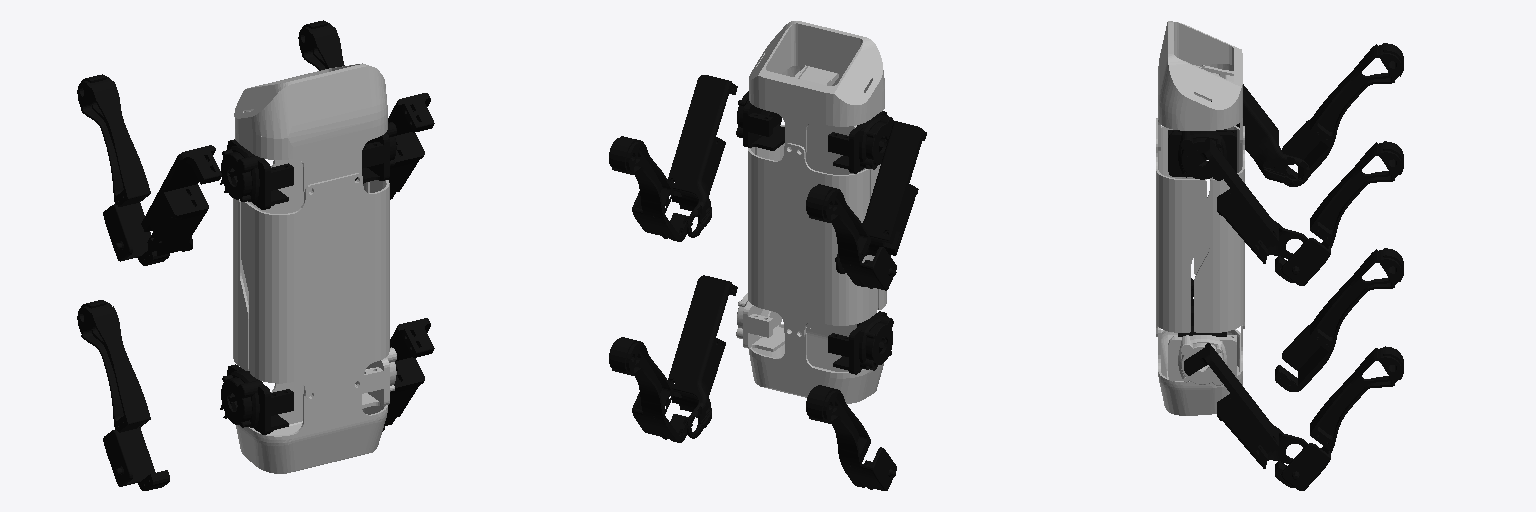
robot.urdf — spotmicro_test_urdf:
<?xml version="1.0" encoding="utf-8"?>
<!-- This URDF was automatically created by SolidWorks to URDF Exporter! Originally created by [author] ([email redacted]) 
     Commit Version: 1.6.0-4-g7f85cfe  Build Version: 1.6.7995.38578
     For more information, please see http://wiki.ros.org/sw_urdf_exporter -->
<robot
  name="spotmicro_test_urdf">
  <link
    name="base_link">
    <inertial>
      <origin
        xyz="0.15063 0.16918 0.41205"
        rpy="0 0 0" />
      <mass
        value="0.18556" />
      <inertia
        ixx="0.00027818"
        ixy="4.3791E-08"
        ixz="8.8551E-09"
        iyy="0.00031044"
        iyz="1.0055E-06"
        izz="0.00045145" />
    </inertial>
    <visual>
      <origin
        xyz="0 0 0"
        rpy="0 0 0" />
      <geometry>
        <mesh
          filename="package://spotmicro_test_urdf/meshes/base_link.STL" />
      </geometry>
      <material
        name="">
        <color
          rgba="0.75294 0.75294 0.75294 1" />
      </material>
    </visual>
    <collision>
      <origin
        xyz="0 0 0"
        rpy="0 0 0" />
      <geometry>
        <mesh
          filename="package://spotmicro_test_urdf/meshes/base_link.STL" />
      </geometry>
    </collision>
  </link>
  <link
    name="front_left_shoulder_link">
    <inertial>
      <origin
        xyz="-0.015926 0.024954 0.02626"
        rpy="0 0 0" />
      <mass
        value="0.023245" />
      <inertia
        ixx="1.0199E-05"
        ixy="5.1964E-07"
        ixz="-5.9066E-08"
        iyy="8.7583E-06"
        iyz="-2.3765E-08"
        izz="5.5095E-06" />
    </inertial>
    <visual>
      <origin
        xyz="0 0 0"
        rpy="0 0 0" />
      <geometry>
        <mesh
          filename="package://spotmicro_test_urdf/meshes/front_left_shoulder_link.STL" />
      </geometry>
      <material
        name="">
        <color
          rgba="0.098039 0.098039 0.098039 1" />
      </material>
    </visual>
    <collision>
      <origin
        xyz="0 0 0"
        rpy="0 0 0" />
      <geometry>
        <mesh
          filename="package://spotmicro_test_urdf/meshes/front_left_shoulder_link.STL" />
      </geometry>
    </collision>
  </link>
  <joint
    name="front_left_shoulder_joint"
    type="revolute">
    <origin
      xyz="0.083432 -0.38203 0.26969"
      rpy="-1.5708 0 3.1416" />
    <parent
      link="base_link" />
    <child
      link="front_left_shoulder_link" />
    <axis
      xyz="0 0 0" />
    <limit
      lower="0"
      upper="0"
      effort="0"
      velocity="0" />
  </joint>
  <link
    name="front_left_top_leg_link">
    <inertial>
      <origin
        xyz="-0.03839 0.039911 0.76787"
        rpy="0 0 0" />
      <mass
        value="0.0541" />
      <inertia
        ixx="5.1006E-05"
        ixy="6.9559E-09"
        ixz="-2.4597E-06"
        iyy="4.9512E-05"
        iyz="3.9615E-06"
        izz="8.2949E-06" />
    </inertial>
    <visual>
      <origin
        xyz="0 0 0"
        rpy="0 0 0" />
      <geometry>
        <mesh
          filename="package://spotmicro_test_urdf/meshes/front_left_top_leg_link.STL" />
      </geometry>
      <material
        name="">
        <color
          rgba="0.098039 0.098039 0.098039 1" />
      </material>
    </visual>
    <collision>
      <origin
        xyz="0 0 0"
        rpy="0 0 0" />
      <geometry>
        <mesh
          filename="package://spotmicro_test_urdf/meshes/front_left_top_leg_link.STL" />
      </geometry>
    </collision>
  </link>
  <joint
    name="front_left_top_leg_joint"
    type="revolute">
    <origin
      xyz="-0.014683 -0.549 0.46222"
      rpy="3.1416 -0.95993 1.5708" />
    <parent
      link="front_left_shoulder_link" />
    <child
      link="front_left_top_leg_link" />
    <axis
      xyz="0 0 0" />
    <limit
      lower="0"
      upper="0"
      effort="0"
      velocity="0" />
  </joint>
  <link
    name="front_left_bottom_leg_link">
    <inertial>
      <origin
        xyz="0.20031 -0.48365 0.23645"
        rpy="0 0 0" />
      <mass
        value="0.028735" />
      <inertia
        ixx="4.2921E-06"
        ixy="-3.2593E-06"
        ixz="3.9385E-06"
        iyy="6.7437E-05"
        iyz="3.1107E-07"
        izz="6.7109E-05" />
    </inertial>
    <visual>
      <origin
        xyz="0 0 0"
        rpy="0 0 0" />
      <geometry>
        <mesh
          filename="package://spotmicro_test_urdf/meshes/front_left_bottom_leg_link.STL" />
      </geometry>
      <material
        name="">
        <color
          rgba="0.098039 0.098039 0.098039 1" />
      </material>
    </visual>
    <collision>
      <origin
        xyz="0 0 0"
        rpy="0 0 0" />
      <geometry>
        <mesh
          filename="package://spotmicro_test_urdf/meshes/front_left_bottom_leg_link.STL" />
      </geometry>
    </collision>
  </link>
  <joint
    name="front_left_bottom_leg_joint"
    type="revolute">
    <origin
      xyz="0.15499 -0.43707 0.63677"
      rpy="0 0.2618 -3.1416" />
    <parent
      link="front_left_top_leg_link" />
    <child
      link="front_left_bottom_leg_link" />
    <axis
      xyz="0 0 0" />
    <limit
      lower="0"
      upper="0"
      effort="0"
      velocity="0" />
  </joint>
  <link
    name="back_left_shoulder_link">
    <inertial>
      <origin
        xyz="-0.015926 0.024954 0.02626"
        rpy="0 0 0" />
      <mass
        value="0.023245" />
      <inertia
        ixx="1.0199E-05"
        ixy="5.1964E-07"
        ixz="-5.9066E-08"
        iyy="8.7583E-06"
        iyz="-2.3765E-08"
        izz="5.5095E-06" />
    </inertial>
    <visual>
      <origin
        xyz="0 0 0"
        rpy="0 0 0" />
      <geometry>
        <mesh
          filename="package://spotmicro_test_urdf/meshes/back_left_shoulder_link.STL" />
      </geometry>
      <material
        name="">
        <color
          rgba="0.098039 0.098039 0.098039 1" />
      </material>
    </visual>
    <collision>
      <origin
        xyz="0 0 0"
        rpy="0 0 0" />
      <geometry>
        <mesh
          filename="package://spotmicro_test_urdf/meshes/back_left_shoulder_link.STL" />
      </geometry>
    </collision>
  </link>
  <joint
    name="back_left_shoulder_joint"
    type="revolute">
    <origin
      xyz="0.083432 -0.38203 0.082186"
      rpy="-1.5708 0 3.1416" />
    <parent
      link="base_link" />
    <child
      link="back_left_shoulder_link" />
    <axis
      xyz="0 0 0" />
    <limit
      lower="0"
      upper="0"
      effort="0"
      velocity="0" />
  </joint>
  <link
    name="back_left_top_leg_link">
    <inertial>
      <origin
        xyz="-0.0383901944027628 0.0399109204973224 0.767866585360039"
        rpy="0 0 0" />
      <mass
        value="0.0541003736709498" />
      <inertia
        ixx="5.10063869441116E-05"
        ixy="6.95589520913907E-09"
        ixz="-2.4597497494731E-06"
        iyy="4.95124693020036E-05"
        iyz="3.9614551124075E-06"
        izz="8.29492357103396E-06" />
    </inertial>
    <visual>
      <origin
        xyz="0 0 0"
        rpy="0 0 0" />
      <geometry>
        <mesh
          filename="package://spotmicro_test_urdf/meshes/back_left_top_leg_link.STL" />
      </geometry>
      <material
        name="">
        <color
          rgba="0.0980392156862745 0.0980392156862745 0.0980392156862745 1" />
      </material>
    </visual>
    <collision>
      <origin
        xyz="0 0 0"
        rpy="0 0 0" />
      <geometry>
        <mesh
          filename="package://spotmicro_test_urdf/meshes/back_left_top_leg_link.STL" />
      </geometry>
    </collision>
  </link>
  <joint
    name="back_left_top_leg_joint"
    type="revolute">
    <origin
      xyz="-0.014683 -0.549 0.46222"
      rpy="3.1416 -0.95993 1.5708" />
    <parent
      link="back_left_shoulder_link" />
    <child
      link="back_left_top_leg_link" />
    <axis
      xyz="0 0 0" />
    <limit
      lower="0"
      upper="0"
      effort="0"
      velocity="0" />
  </joint>
  <link
    name="back_left_bottom_leg_link">
    <inertial>
      <origin
        xyz="0.20031201545386 -0.483650020807854 0.23645017312076"
        rpy="0 0 0" />
      <mass
        value="0.0287350834744898" />
      <inertia
        ixx="4.29213028614599E-06"
        ixy="-3.25928881788901E-06"
        ixz="3.93849114184782E-06"
        iyy="6.74373174286215E-05"
        iyz="3.11068351479878E-07"
        izz="6.71092865934358E-05" />
    </inertial>
    <visual>
      <origin
        xyz="0 0 0"
        rpy="0 0 0" />
      <geometry>
        <mesh
          filename="package://spotmicro_test_urdf/meshes/back_left_bottom_leg_link.STL" />
      </geometry>
      <material
        name="">
        <color
          rgba="0.0980392156862745 0.0980392156862745 0.0980392156862745 1" />
      </material>
    </visual>
    <collision>
      <origin
        xyz="0 0 0"
        rpy="0 0 0" />
      <geometry>
        <mesh
          filename="package://spotmicro_test_urdf/meshes/back_left_bottom_leg_link.STL" />
      </geometry>
    </collision>
  </link>
  <joint
    name="back_left_bottom_leg_joint"
    type="revolute">
    <origin
      xyz="0.15499 -0.43707 0.63677"
      rpy="0 0.2618 -3.1416" />
    <parent
      link="back_left_top_leg_link" />
    <child
      link="back_left_bottom_leg_link" />
    <axis
      xyz="0 0 0" />
    <limit
      lower="0"
      upper="0"
      effort="0"
      velocity="0" />
  </joint>
  <link
    name="front_right_shoulder_link">
    <inertial>
      <origin
        xyz="-0.014984 0.024796 -0.026032"
        rpy="0 0 0" />
      <mass
        value="0.027445" />
      <inertia
        ixx="1.0952E-05"
        ixy="5.0717E-07"
        ixz="-8.3815E-09"
        iyy="9.3677E-06"
        iyz="3.865E-08"
        izz="6.1079E-06" />
    </inertial>
    <visual>
      <origin
        xyz="0 0 0"
        rpy="0 0 0" />
      <geometry>
        <mesh
          filename="package://spotmicro_test_urdf/meshes/front_right_shoulder_link.STL" />
      </geometry>
      <material
        name="">
        <color
          rgba="0.098039 0.098039 0.098039 1" />
      </material>
    </visual>
    <collision>
      <origin
        xyz="0 0 0"
        rpy="0 0 0" />
      <geometry>
        <mesh
          filename="package://spotmicro_test_urdf/meshes/front_right_shoulder_link.STL" />
      </geometry>
    </collision>
  </link>
  <joint
    name="front_right_shoulder_joint"
    type="revolute">
    <origin
      xyz="0.21781 -0.38203 0.26969"
      rpy="-1.5708 0 0" />
    <parent
      link="base_link" />
    <child
      link="front_right_shoulder_link" />
    <axis
      xyz="0 0 0" />
    <limit
      lower="0"
      upper="0"
      effort="0"
      velocity="0" />
  </joint>
  <link
    name="front_right_top_leg_link">
    <inertial>
      <origin
        xyz="-0.0383901213697152 0.039910907772139 -0.767866674756265"
        rpy="0 0 0" />
      <mass
        value="0.0541003356631991" />
      <inertia
        ixx="5.10064102961306E-05"
        ixy="7.02679399464376E-09"
        ixz="2.45986522690675E-06"
        iyy="4.95124442637593E-05"
        iyz="-3.9615380913588E-06"
        izz="8.29484049269704E-06" />
    </inertial>
    <visual>
      <origin
        xyz="0 0 0"
        rpy="0 0 0" />
      <geometry>
        <mesh
          filename="package://spotmicro_test_urdf/meshes/front_right_top_leg_link.STL" />
      </geometry>
      <material
        name="">
        <color
          rgba="0.0980392156862745 0.0980392156862745 0.0980392156862745 1" />
      </material>
    </visual>
    <collision>
      <origin
        xyz="0 0 0"
        rpy="0 0 0" />
      <geometry>
        <mesh
          filename="package://spotmicro_test_urdf/meshes/front_right_top_leg_link.STL" />
      </geometry>
    </collision>
  </link>
  <joint
    name="front_right_top_leg_joint"
    type="revolute">
    <origin
      xyz="-0.014683 -0.549 -0.46222"
      rpy="3.1416 0.95993 1.5708" />
    <parent
      link="front_right_shoulder_link" />
    <child
      link="front_right_top_leg_link" />
    <axis
      xyz="0 0 0" />
    <limit
      lower="0"
      upper="0"
      effort="0"
      velocity="0" />
  </joint>
  <link
    name="front_right_bottom_leg_link">
    <inertial>
      <origin
        xyz="0.200311851195204 -0.483650021236253 -0.236450230350531"
        rpy="0 0 0" />
      <mass
        value="0.0287350640928098" />
      <inertia
        ixx="4.29213288728501E-06"
        ixy="-3.25927859846549E-06"
        ixz="-3.93850857348559E-06"
        iyy="6.74374069309438E-05"
        iyz="-3.1106302790063E-07"
        izz="6.710937211015E-05" />
    </inertial>
    <visual>
      <origin
        xyz="0 0 0"
        rpy="0 0 0" />
      <geometry>
        <mesh
          filename="package://spotmicro_test_urdf/meshes/front_right_bottom_leg_link.STL" />
      </geometry>
      <material
        name="">
        <color
          rgba="0.0980392156862745 0.0980392156862745 0.0980392156862745 1" />
      </material>
    </visual>
    <collision>
      <origin
        xyz="0 0 0"
        rpy="0 0 0" />
      <geometry>
        <mesh
          filename="package://spotmicro_test_urdf/meshes/front_right_bottom_leg_link.STL" />
      </geometry>
    </collision>
  </link>
  <joint
    name="front_right_bottom_leg_joint"
    type="revolute">
    <origin
      xyz="0.15499 -0.43707 -0.63677"
      rpy="0 -0.2618 -3.1416" />
    <parent
      link="front_right_top_leg_link" />
    <child
      link="front_right_bottom_leg_link" />
    <axis
      xyz="0 0 0" />
    <limit
      lower="0"
      upper="0"
      effort="0"
      velocity="0" />
  </joint>
  <link
    name="back_right_shoulder_link">
    <inertial>
      <origin
        xyz="0.15063 0.16918 0.41205"
        rpy="0 0 0" />
      <mass
        value="0.18556" />
      <inertia
        ixx="0.00027818"
        ixy="4.3791E-08"
        ixz="8.8551E-09"
        iyy="0.00031044"
        iyz="1.0055E-06"
        izz="0.00045145" />
    </inertial>
    <visual>
      <origin
        xyz="0 0 0"
        rpy="0 0 0" />
      <geometry>
        <mesh
          filename="package://spotmicro_test_urdf/meshes/back_right_shoulder_link.STL" />
      </geometry>
      <material
        name="">
        <color
          rgba="0.75294 0.75294 0.75294 1" />
      </material>
    </visual>
    <collision>
      <origin
        xyz="0 0 0"
        rpy="0 0 0" />
      <geometry>
        <mesh
          filename="package://spotmicro_test_urdf/meshes/back_right_shoulder_link.STL" />
      </geometry>
    </collision>
  </link>
  <joint
    name="back_right_shoulder_joint"
    type="revolute">
    <origin
      xyz="0.21781 -0.38203 0.082186"
      rpy="-1.5708 0 0" />
    <parent
      link="base_link" />
    <child
      link="back_right_shoulder_link" />
    <axis
      xyz="0 0 0" />
    <limit
      lower="0"
      upper="0"
      effort="0"
      velocity="0" />
  </joint>
  <link
    name="back_right_top_leg_link">
    <inertial>
      <origin
        xyz="-0.0383901213697145 0.0399109077721393 -0.767866674756265"
        rpy="0 0 0" />
      <mass
        value="0.054100335663199" />
      <inertia
        ixx="5.10064102961306E-05"
        ixy="7.02679399464874E-09"
        ixz="2.45986522690681E-06"
        iyy="4.95124442637593E-05"
        iyz="-3.96153809135878E-06"
        izz="8.29484049269703E-06" />
    </inertial>
    <visual>
      <origin
        xyz="0 0 0"
        rpy="0 0 0" />
      <geometry>
        <mesh
          filename="package://spotmicro_test_urdf/meshes/back_right_top_leg_link.STL" />
      </geometry>
      <material
        name="">
        <color
          rgba="0.0980392156862745 0.0980392156862745 0.0980392156862745 1" />
      </material>
    </visual>
    <collision>
      <origin
        xyz="0 0 0"
        rpy="0 0 0" />
      <geometry>
        <mesh
          filename="package://spotmicro_test_urdf/meshes/back_right_top_leg_link.STL" />
      </geometry>
    </collision>
  </link>
  <joint
    name="back_right_top_leg_joint"
    type="revolute">
    <origin
      xyz="-0.014683 -0.549 -0.46222"
      rpy="3.1416 0.95993 1.5708" />
    <parent
      link="back_right_shoulder_link" />
    <child
      link="back_right_top_leg_link" />
    <axis
      xyz="0 0 0" />
    <limit
      lower="0"
      upper="0"
      effort="0"
      velocity="0" />
  </joint>
  <link
    name="back_right_bottom_leg_link">
    <inertial>
      <origin
        xyz="0.200311851195204 -0.483650021236253 -0.236450230350531"
        rpy="0 0 0" />
      <mass
        value="0.0287350640928096" />
      <inertia
        ixx="4.29213288728499E-06"
        ixy="-3.2592785984655E-06"
        ixz="-3.93850857348558E-06"
        iyy="6.74374069309435E-05"
        iyz="-3.11063027900631E-07"
        izz="6.71093721101496E-05" />
    </inertial>
    <visual>
      <origin
        xyz="0 0 0"
        rpy="0 0 0" />
      <geometry>
        <mesh
          filename="package://spotmicro_test_urdf/meshes/back_right_bottom_leg_link.STL" />
      </geometry>
      <material
        name="">
        <color
          rgba="0.0980392156862745 0.0980392156862745 0.0980392156862745 1" />
      </material>
    </visual>
    <collision>
      <origin
        xyz="0 0 0"
        rpy="0 0 0" />
      <geometry>
        <mesh
          filename="package://spotmicro_test_urdf/meshes/back_right_bottom_leg_link.STL" />
      </geometry>
    </collision>
  </link>
  <joint
    name="back_right_bottom_leg_joint"
    type="revolute">
    <origin
      xyz="0.15499 -0.43707 -0.63677"
      rpy="0 -0.2618 -3.1416" />
    <parent
      link="back_right_top_leg_link" />
    <child
      link="back_right_bottom_leg_link" />
    <axis
      xyz="0 0 0" />
    <limit
      lower="0"
      upper="0"
      effort="0"
      velocity="0" />
  </joint>
</robot>

--- Facts derived from the render (not from the file) ---
Views: 3 orthographic renders of the robot side by side, from view 1: azimuth 30°, elevation 25°; view 2: azimuth 150°, elevation 25°; view 3: azimuth 270°, elevation 25°.
Model spotmicro_test_urdf with 13 links and 12 joints (12 revolute), rooted at base_link, posed all joints at 0.
Links seen in each view (by area): view 1: base_link, back_left_bottom_leg_link, front_left_bottom_leg_link, front_left_top_leg_link, back_left_shoulder_link, front_left_shoulder_link, back_right_top_leg_link, front_right_top_leg_link, front_right_bottom_leg_link, back_right_shoulder_link, front_right_shoulder_link; view 2: base_link, back_right_top_leg_link, front_right_top_leg_link, front_left_top_leg_link, back_left_bottom_leg_link, front_left_bottom_leg_link, front_right_bottom_leg_link, back_right_bottom_leg_link, back_left_shoulder_link, front_left_shoulder_link, back_right_shoulder_link, front_right_shoulder_link; view 3: base_link, back_left_bottom_leg_link, front_right_bottom_leg_link, back_right_bottom_leg_link, front_left_bottom_leg_link, back_right_top_leg_link, front_right_top_leg_link, front_left_top_leg_link, back_right_shoulder_link, front_right_shoulder_link.
Boxes of the visible links, x1=… form: base_link: x1=233, y1=63, x2=389, y2=473; back_left_bottom_leg_link: x1=77, y1=300, x2=169, y2=490; front_left_bottom_leg_link: x1=77, y1=74, x2=169, y2=265; front_left_top_leg_link: x1=141, y1=145, x2=221, y2=255; back_left_shoulder_link: x1=220, y1=364, x2=293, y2=434; front_left_shoulder_link: x1=220, y1=139, x2=293, y2=209; back_right_top_leg_link: x1=384, y1=318, x2=434, y2=425; front_right_top_leg_link: x1=388, y1=93, x2=434, y2=199; front_right_bottom_leg_link: x1=298, y1=20, x2=344, y2=70; back_right_shoulder_link: x1=355, y1=347, x2=396, y2=409; front_right_shoulder_link: x1=355, y1=122, x2=396, y2=183; base_link: x1=748, y1=21, x2=886, y2=403; back_right_top_leg_link: x1=668, y1=275, x2=737, y2=438; front_right_top_leg_link: x1=668, y1=75, x2=737, y2=237; front_left_top_leg_link: x1=835, y1=121, x2=926, y2=273; back_left_bottom_leg_link: x1=806, y1=385, x2=896, y2=490; front_left_bottom_leg_link: x1=806, y1=184, x2=896, y2=290; front_right_bottom_leg_link: x1=609, y1=136, x2=688, y2=241; back_right_bottom_leg_link: x1=609, y1=337, x2=688, y2=442; back_left_shoulder_link: x1=828, y1=311, x2=893, y2=374; front_left_shoulder_link: x1=828, y1=111, x2=893, y2=173; back_right_shoulder_link: x1=736, y1=293, x2=791, y2=351; front_right_shoulder_link: x1=736, y1=91, x2=784, y2=150; base_link: x1=1156, y1=21, x2=1244, y2=415; back_left_bottom_leg_link: x1=1275, y1=248, x2=1403, y2=391; front_right_bottom_leg_link: x1=1275, y1=141, x2=1403, y2=285; back_right_bottom_leg_link: x1=1275, y1=346, x2=1403, y2=490; front_left_bottom_leg_link: x1=1282, y1=43, x2=1403, y2=186; back_right_top_leg_link: x1=1184, y1=343, x2=1307, y2=468; front_right_top_leg_link: x1=1184, y1=138, x2=1307, y2=263; front_left_top_leg_link: x1=1236, y1=84, x2=1309, y2=185; back_right_shoulder_link: x1=1168, y1=335, x2=1236, y2=385; front_right_shoulder_link: x1=1168, y1=130, x2=1236, y2=180.
Size in the robot's own frame: 0.2463 by 0.2058 by 0.3639 metres.
12 mesh visuals loaded from 13 distinct referenced files (12 binary STL); not drawn: 1 (reference not matched to a file when rendering).